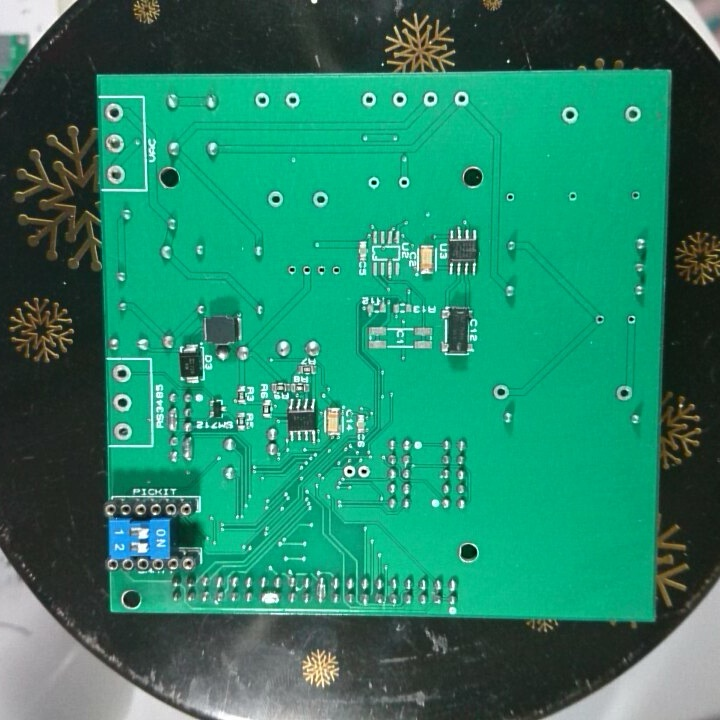F: (102, 100, 128, 125), (110, 361, 134, 386), (105, 163, 128, 187), (621, 102, 644, 126), (104, 131, 126, 155), (559, 104, 581, 126), (110, 390, 132, 412), (282, 88, 302, 112), (252, 89, 273, 111), (111, 420, 133, 441), (309, 189, 331, 209), (614, 383, 636, 403), (359, 88, 378, 111), (451, 88, 471, 109), (265, 189, 286, 209), (390, 89, 410, 109), (491, 381, 509, 403), (420, 89, 439, 109), (364, 173, 382, 193), (356, 460, 371, 484), (395, 172, 413, 191), (328, 261, 344, 280), (340, 462, 356, 480), (503, 190, 519, 205), (299, 262, 314, 278), (313, 263, 328, 279), (285, 263, 299, 279), (624, 311, 637, 328), (628, 189, 643, 203), (592, 312, 607, 326), (566, 189, 579, 204)
P: (312, 573, 327, 605), (165, 405, 179, 435), (181, 435, 195, 464), (257, 588, 279, 606)
